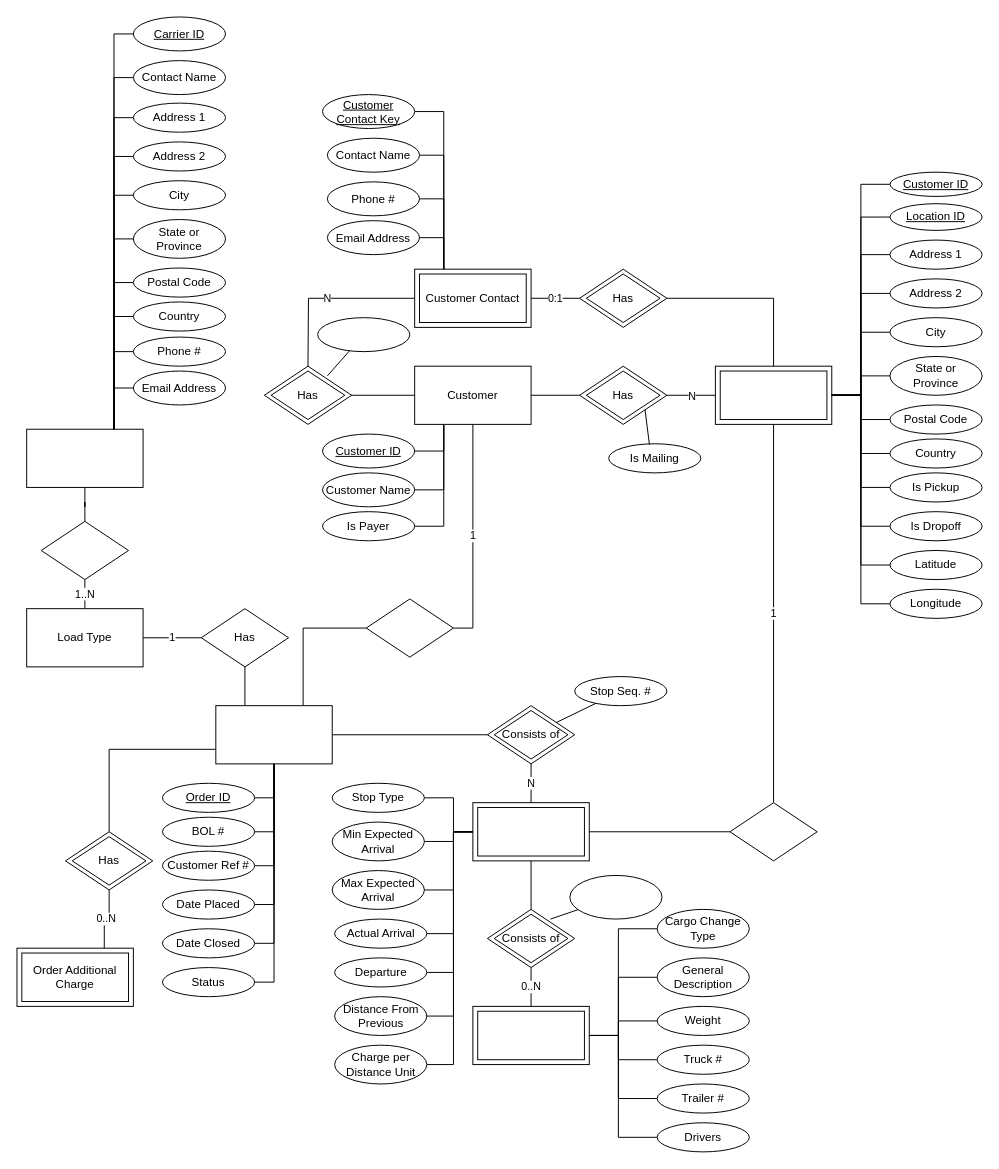
Image size: 999x1169. Some labels were removed from this diagram. Each missing label, with the centre of its shape:
"Capable of" belongs at (x=84, y=550).
"Cargo Change Seq #" belongs at (x=615, y=896).
"Carrier" belongs at (x=84, y=457).
"Customer Location" belongs at (x=773, y=395).
"Is Billed To" belongs at (x=409, y=627).
"Is Primary" belongs at (x=363, y=334).
"Order" belongs at (x=273, y=734).
"Order Cargo Change" belongs at (x=530, y=1035).
"Order Stop" belongs at (x=530, y=831).
"Transports From/To" belongs at (x=773, y=831).
